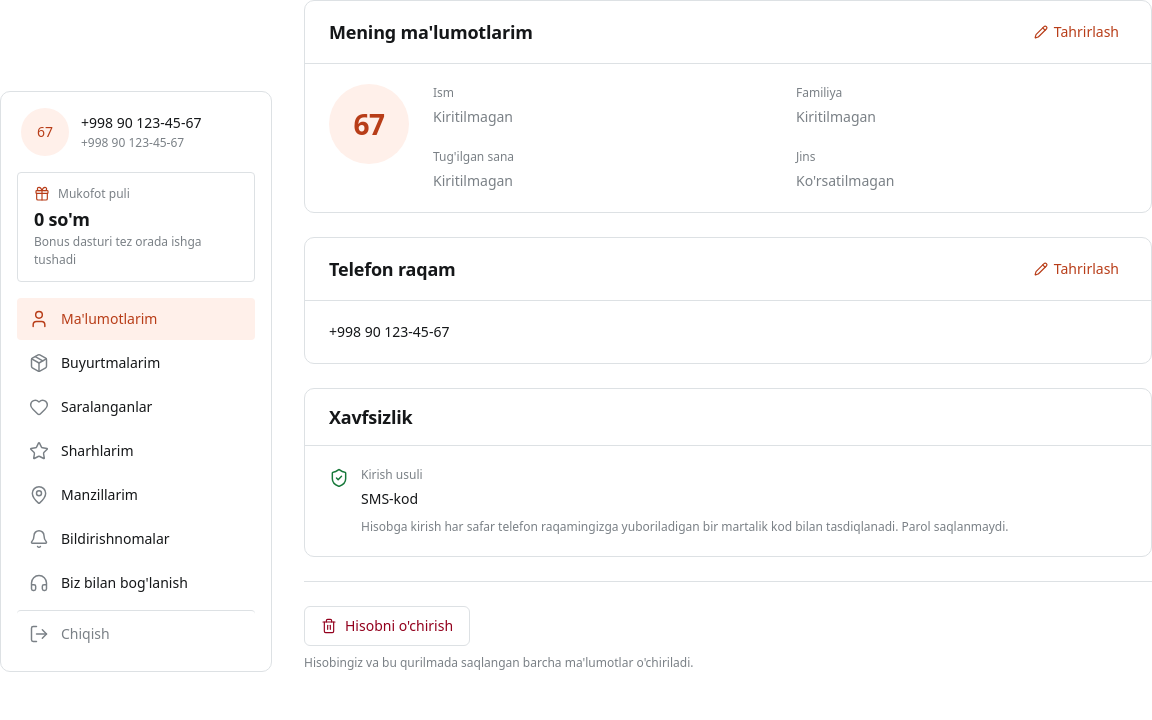
Test: AccountCabinet › refuses a name that is one character and keeps the modal open
Click the button "Tahrirlash" in the row of "Mening ma'lumotlarim". click: (1076, 32)
box: top-left (1026, 17), bottom-right (1127, 47)
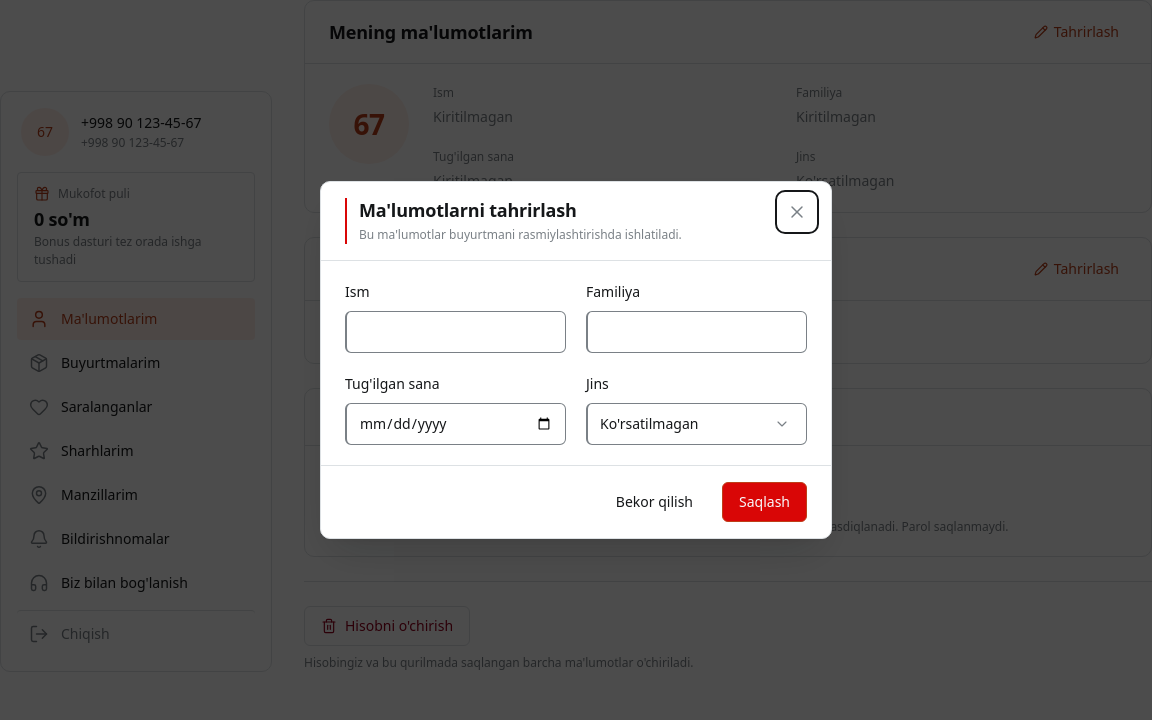
Type "A" into the field labelled "Ism". click: (456, 332)
box: top-left (359, 312), bottom-right (553, 352)
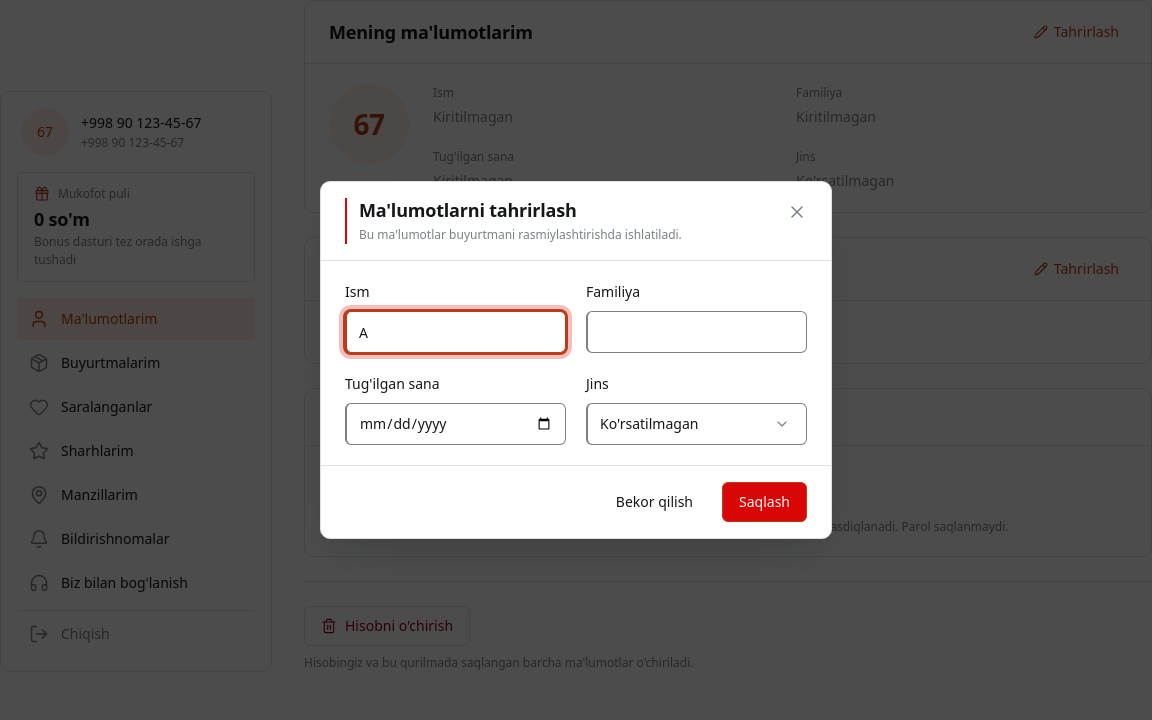
Type "K" into the field labelled "Familiya". click: (697, 332)
box: top-left (600, 312), bottom-right (794, 352)
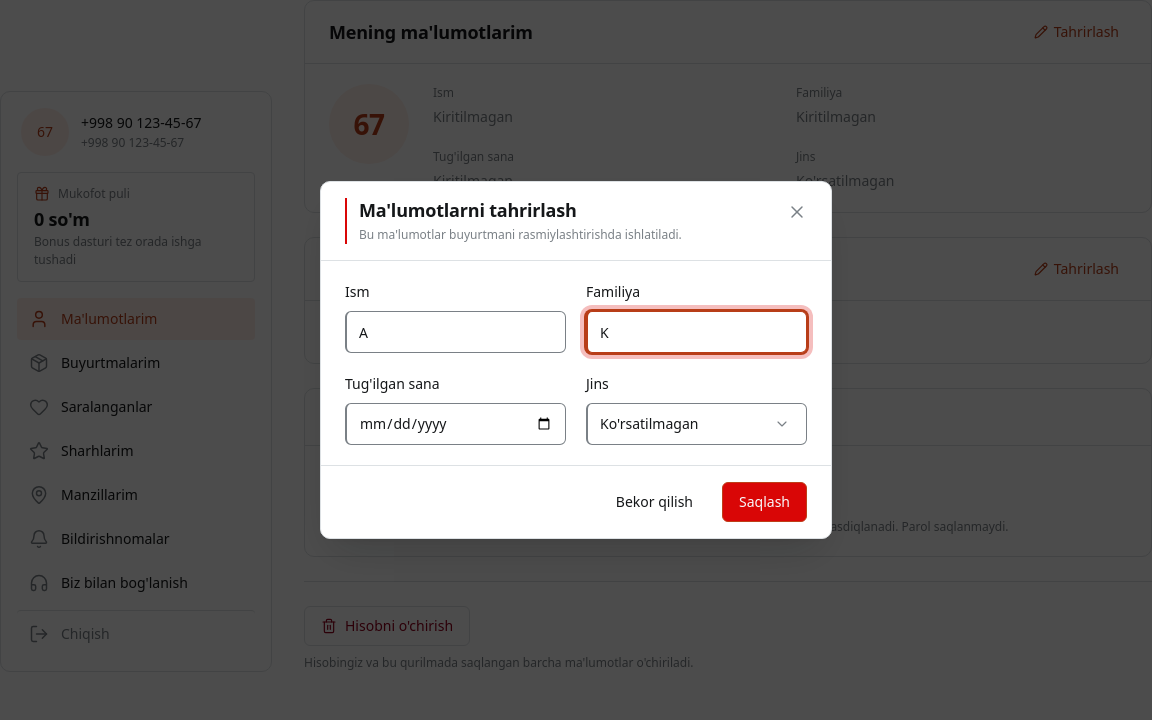
Click the button "Saqlash". click: (764, 502)
box: top-left (722, 482), bottom-right (807, 522)
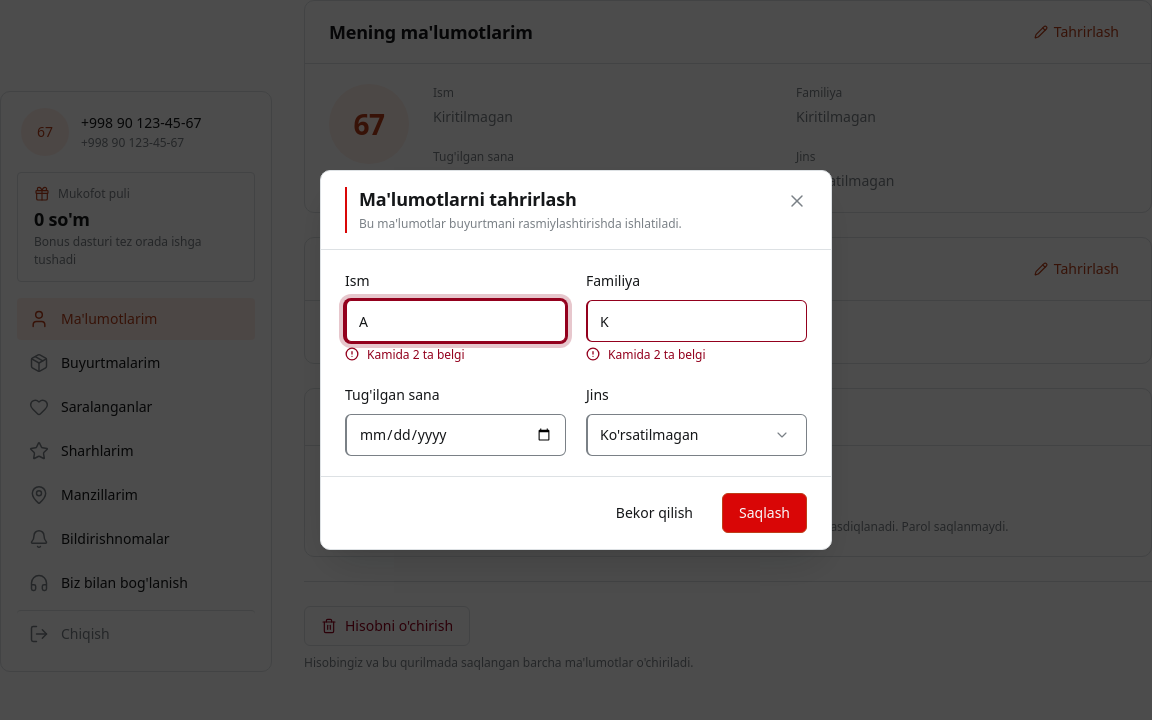
Check: the text "Kamida 2 ta belgi" is shown 2 times, box top-left (367, 346), bottom-right (465, 364); top-left (608, 346), bottom-right (706, 364)
